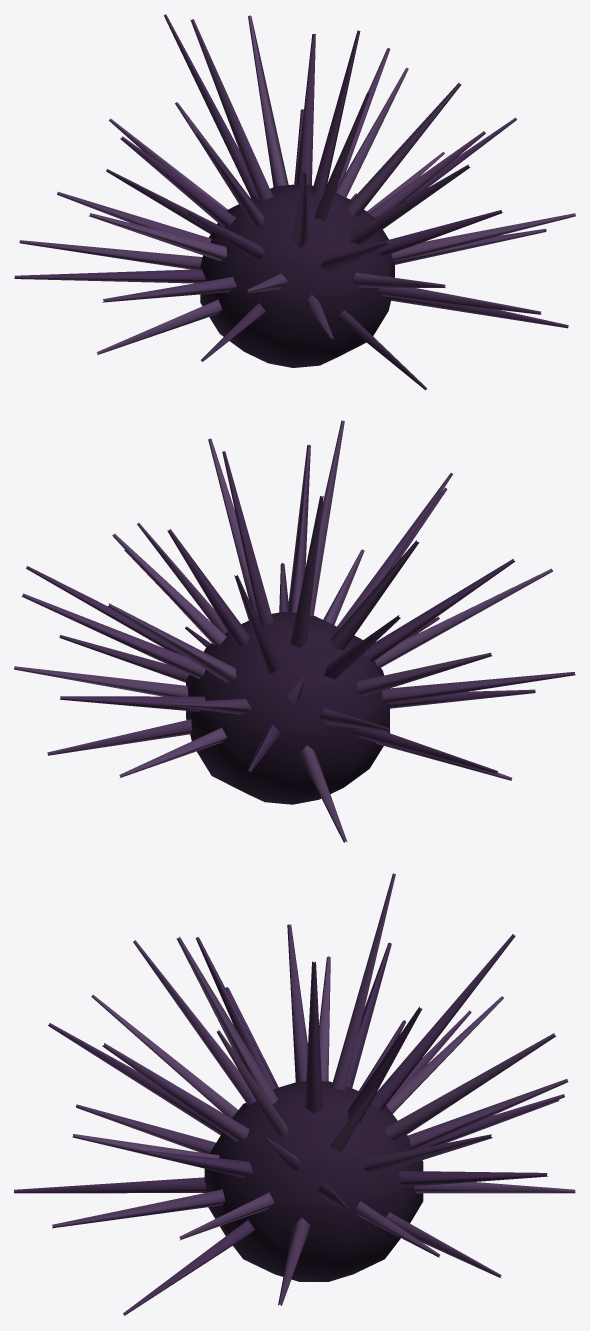
File: sea_urchin.glb
3 views of the same model, one above another, from view 1: azimuth 30°, elevation 25°; view 2: azimuth 150°, elevation 25°; view 3: azimuth 270°, elevation 25° (orthographic). The views are drawn at different scales.
Parts seen in each view (by area): view 1: sea_urchin; view 2: sea_urchin; view 3: sea_urchin.
Part boxes in pixels (x1,y1,x2,y2): sea_urchin: [14, 14, 575, 390]; sea_urchin: [14, 420, 575, 842]; sea_urchin: [14, 873, 575, 1315].
Size of the model in its own units: 0.9176 by 0.6047 by 0.8528.
